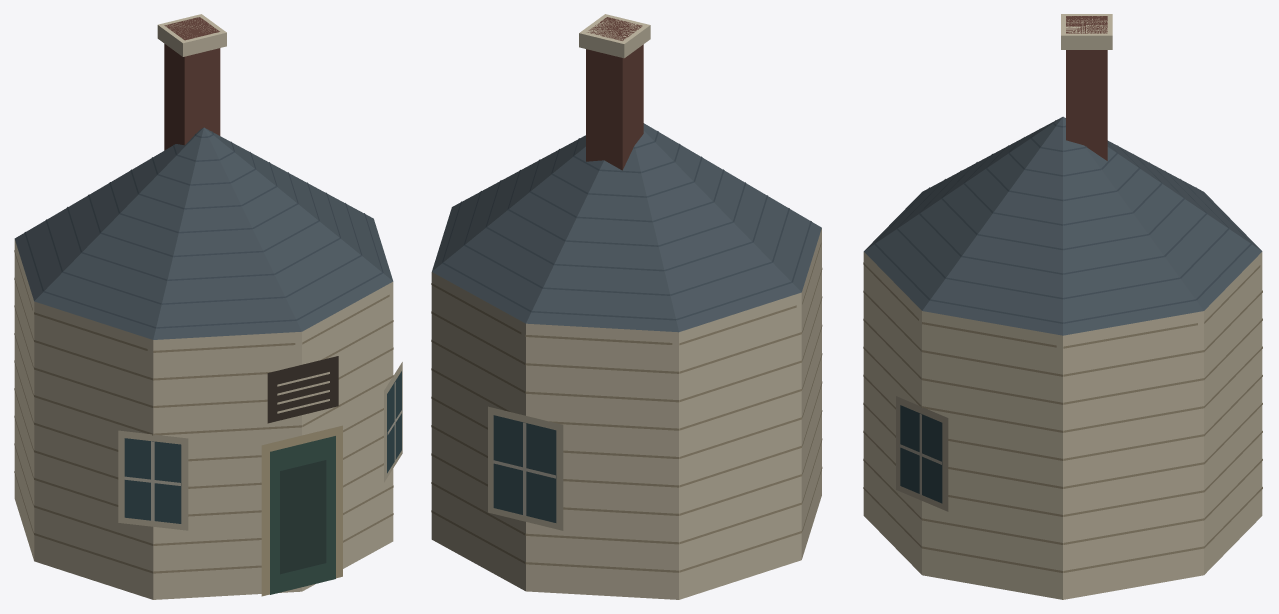
The model's file is 04-octagonal-tollhouse.glb.
3 views of the same model, side by side, from view 1: azimuth 30°, elevation 25°; view 2: azimuth 150°, elevation 25°; view 3: azimuth 270°, elevation 25° (orthographic). The views are drawn at different scales.
Parts seen in each view (by area): view 1: Turnpike tollhouse; view 2: Turnpike tollhouse; view 3: Turnpike tollhouse.
Part boxes in pixels (<box>): Turnpike tollhouse: <box>14,14,402,599</box>; Turnpike tollhouse: <box>431,14,822,599</box>; Turnpike tollhouse: <box>863,14,1262,599</box>.
Size of the model in its own units: 0.6713 by 0.91 by 0.68.
